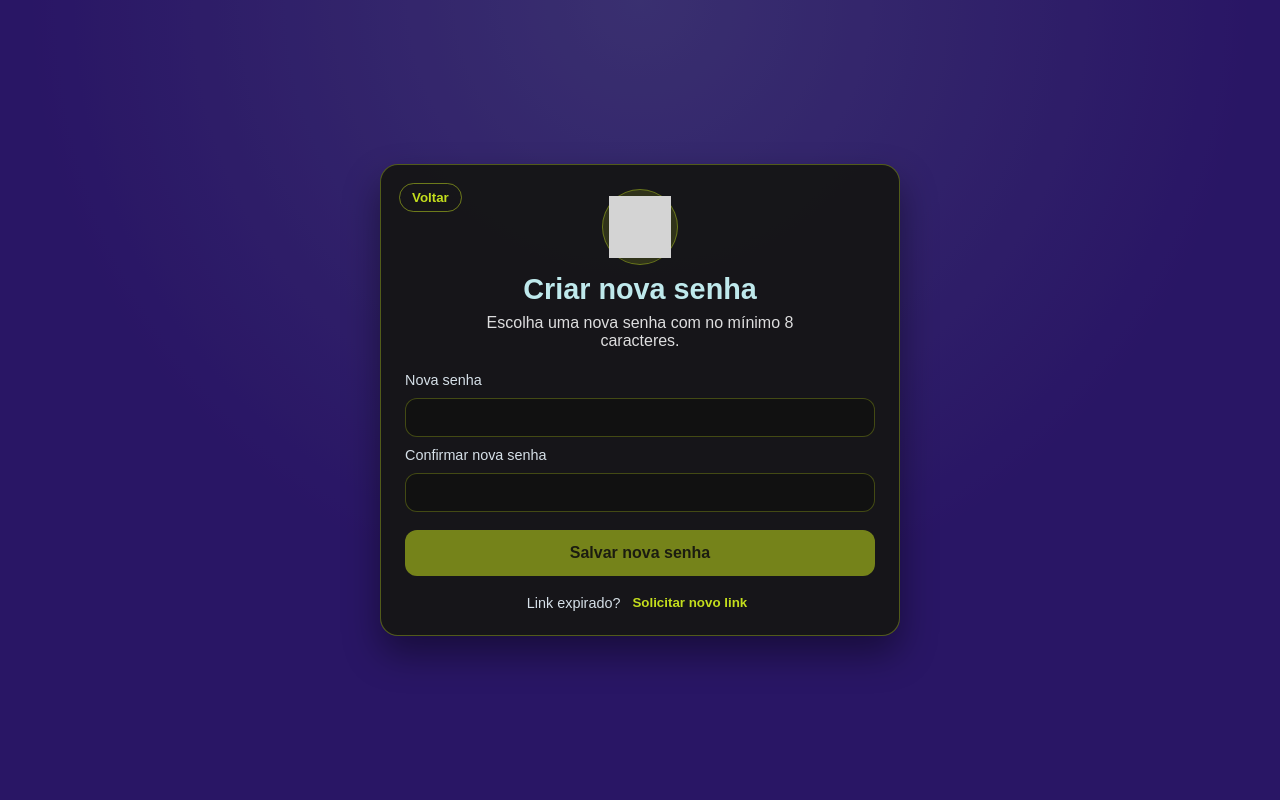
ResetPasswordScreen › rejects a password shorter than the minimum length
Type "1234567" into the password field labelled "Nova senha" at (640, 418), box [405,398,875,437]
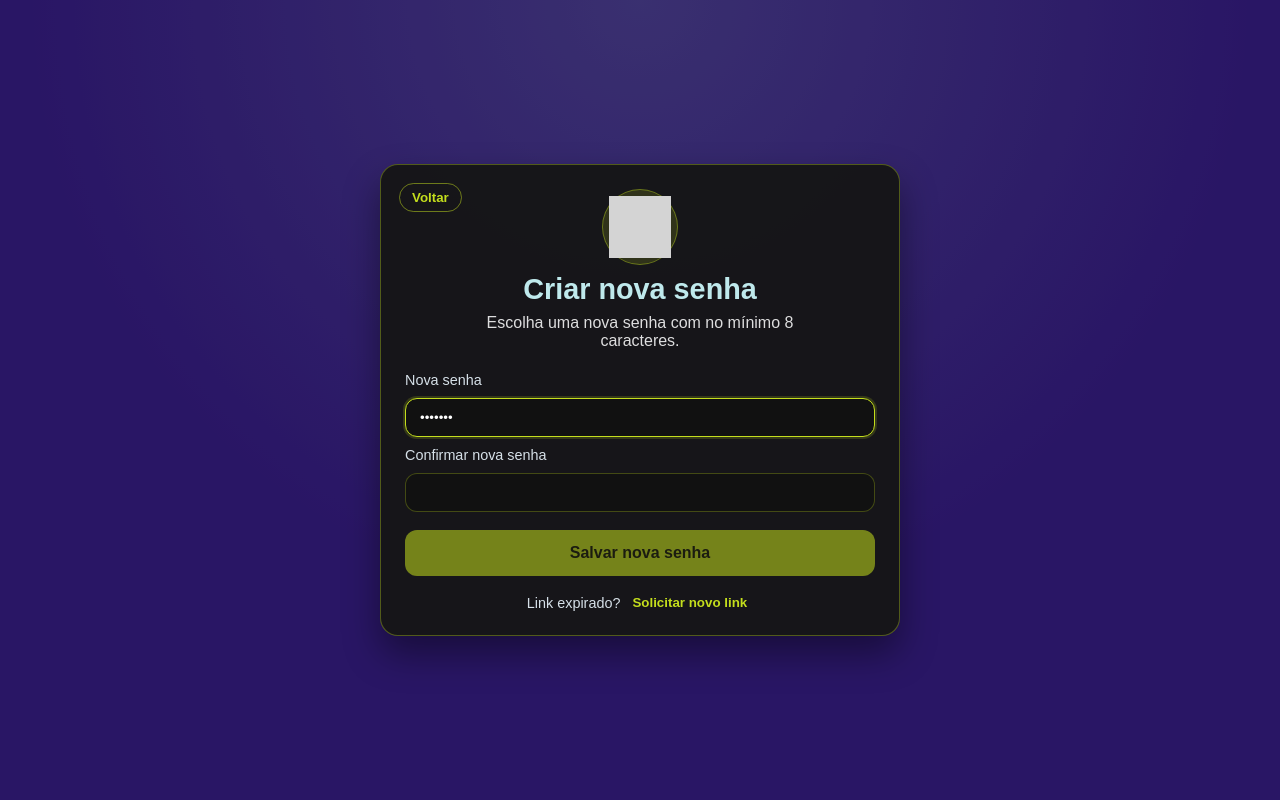
Type "1234567" into the password field labelled "Confirmar nova senha" at (640, 492), box [405,473,875,512]
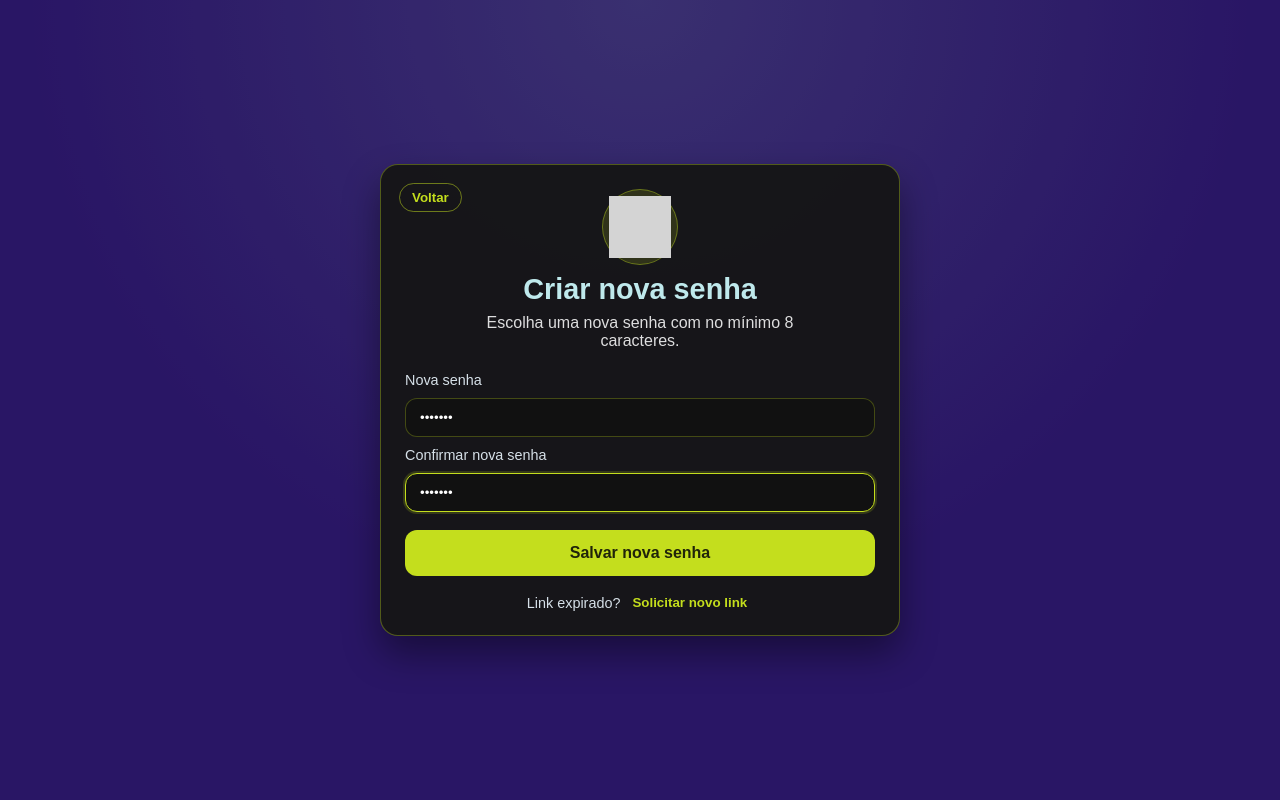
Click the button "Salvar nova senha" at (640, 553), box [405,530,875,576]
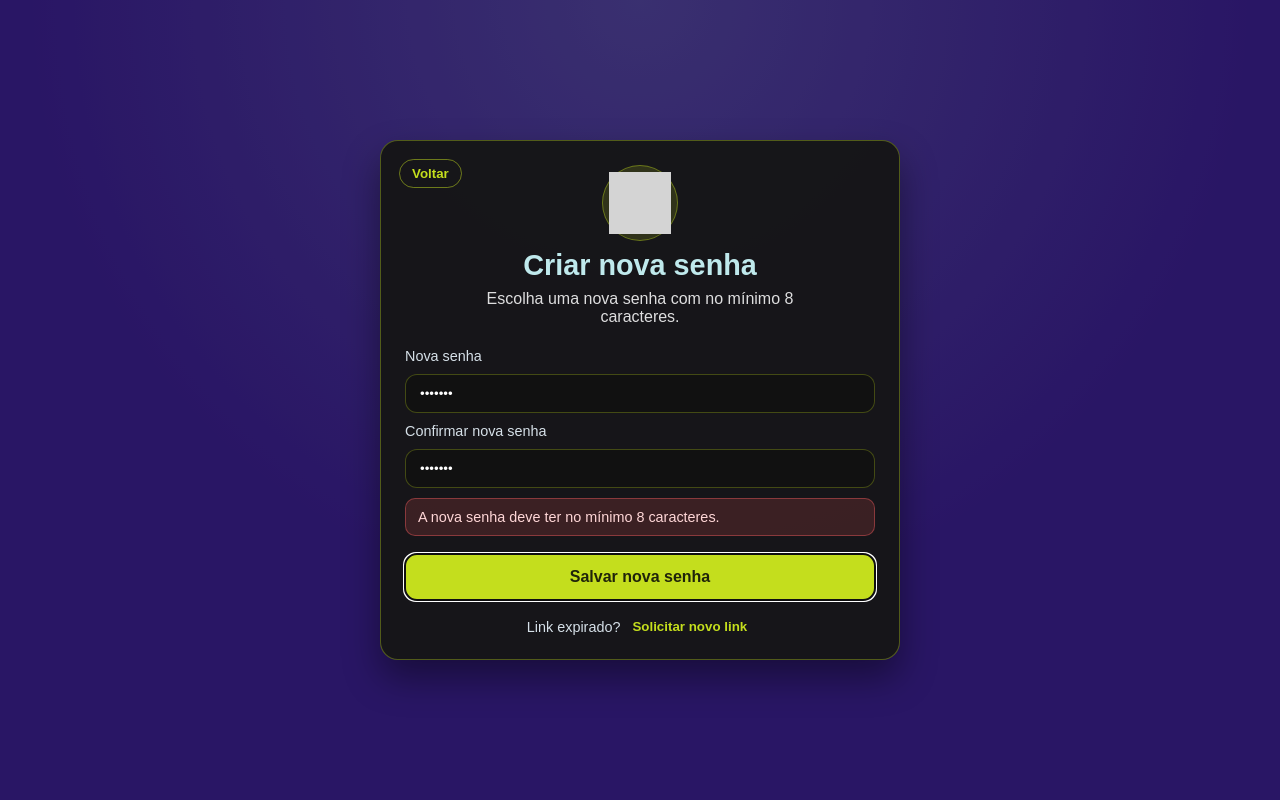
Expected: the text "A nova senha deve ter no mínimo 8 caracteres." is shown, [405,498,875,536]
